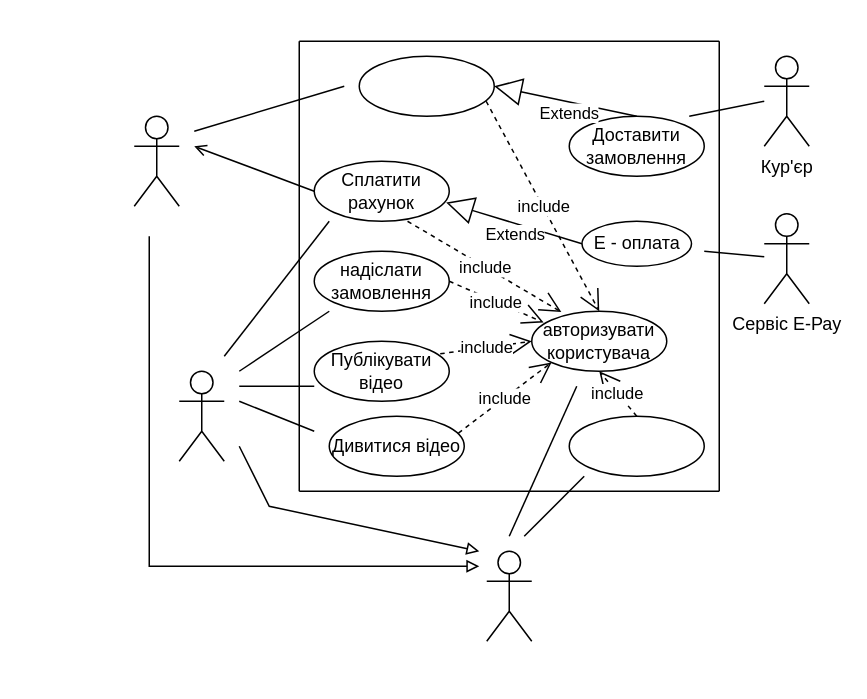
Some shapes in this 867 by 699 pixel diagram are drawn without their labels. The centre of each missing label's shape, as x and y in pixels:
"Виконати замовлення" goes at [426,85].
"Комунікація користувачів" goes at [636,445].
"Користувач" goes at [508,595].
"Співробітник інтернет магазину" goes at [156,160].
"Художник" goes at [201,415].
